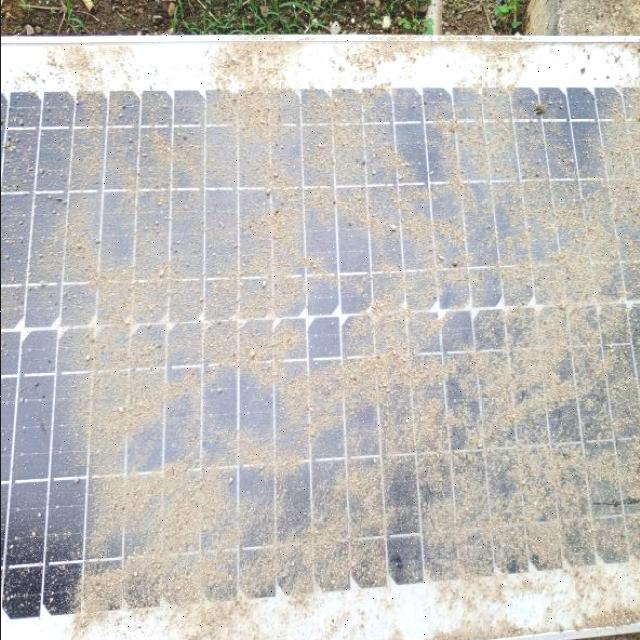Anomaly Solar Panel: (0, 64, 640, 640)
Surface Contaminant: (62, 76, 640, 592)
